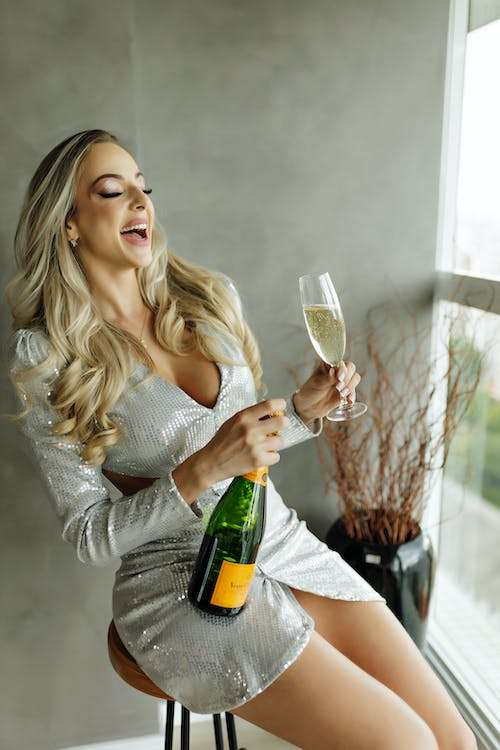alcohol: (185, 397, 286, 619), (297, 269, 368, 423)
